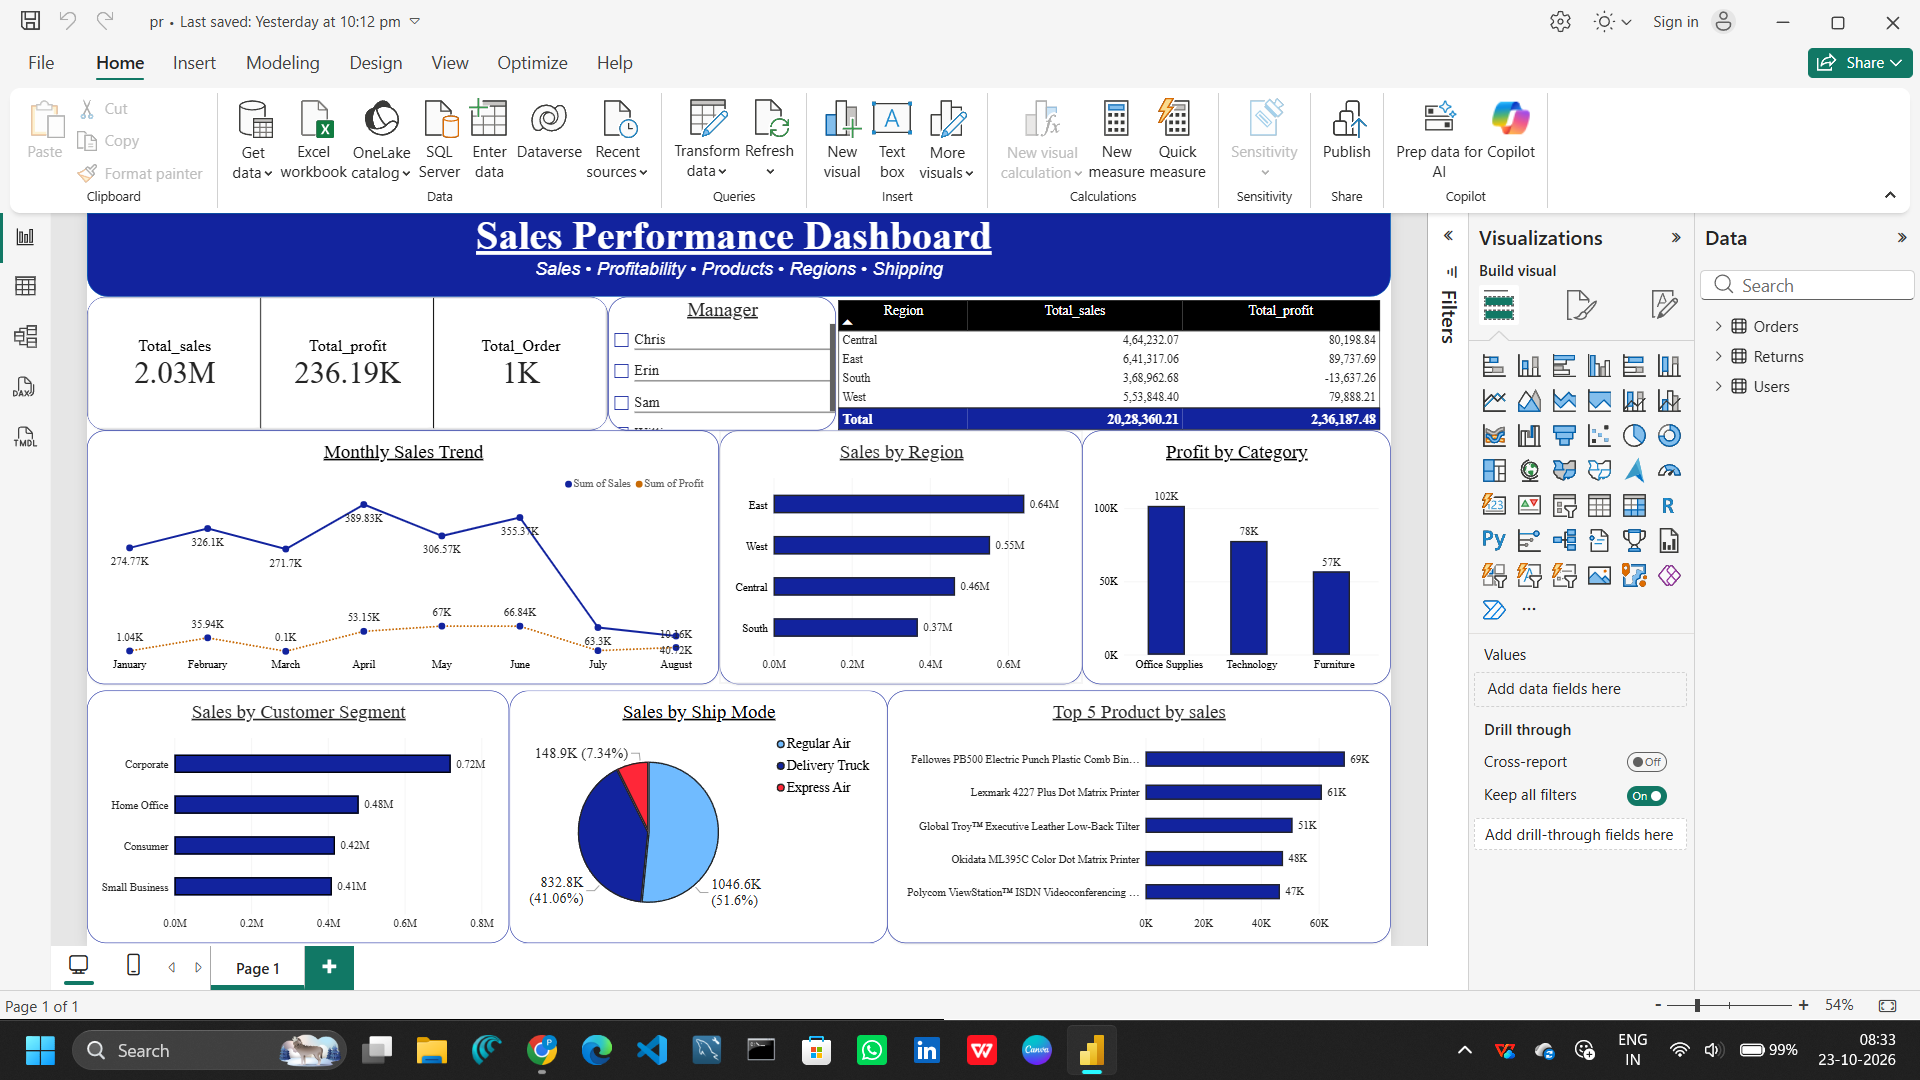

What the dashboard file says about the page in this screenshot:
{"tool":"powerbi","page":{"name":"Page 1","canvas":[1920,1080],"ordinal":0},"visuals":[{"type":"shape","box":[0,0,1919.6,123.3],"z":1},{"type":"textbox","box":[0,0,1919.6,123.3],"z":2},{"type":"cardVisual","fields":{"Data":["Orders.Total_sales","Orders.Total_profit","Orders.Total_Order"]},"box":[0,123.3,767.5,196.9],"z":3},{"type":"columnChart","title":"Sales by Region","fields":{"Category":["Orders.Region"],"Y":["Sum(Orders.Sales)"]},"box":[935,320.2,534.8,373.9],"z":5},{"type":"columnChart","title":"Profit by Product Category","fields":{"Category":["Orders.Product Category"],"Y":["Sum(Orders.Profit)"]},"box":[1465.2,319.6,454.3,373.9],"z":7},{"type":"lineChart","title":"Monthly Sales Trend","fields":{"Category":["Orders.Order Date.Variation.Date Hierarchy.Month"],"Y":["Sum(Orders.Sales)","Sum(Orders.Profit)"]},"box":[0,319.6,930.4,373.9],"z":8},{"type":"donutChart","title":"Sales by Customer Segment","fields":{"Category":["Orders.Customer Segment"],"Y":["Sum(Orders.Sales)"]},"box":[0,702.2,621.7,371.7],"z":10},{"type":"pieChart","title":"Sales by Ship Mode","fields":{"Category":["Orders.Ship Mode"],"Y":["Sum(Orders.Sales)"]},"box":[621.7,702.2,556.5,371.7],"z":11},{"type":"tableEx","fields":{"Values":["Orders.Region","Orders.Total_sales","Orders.Total_profit"]},"box":[1088.9,113.2,831.6,222.3],"z":12},{"type":"barChart","title":"Top 5 Product by sales","fields":{"Category":["Orders.Product Name"],"Y":["Sum(Orders.Sales)"]},"box":[1178.3,702.2,741.3,371.7],"z":13},{"type":"slicer","title":"Manager","fields":{"Values":["Users.Manager"]},"box":[767.5,123.3,335,196.9],"z":14}]}

Visuals, with their boxes on the page's 1920x1080 design canvas (x1, y1, x2, y2). These are canvas units, not pixel positions in the 1920x1080 screenshot, which may show the page scaled, cropped or inside an application window:
shape: region(0, 0, 1920, 123)
textbox: region(0, 0, 1920, 123)
cardVisual - Orders.Total_sales x Orders.Total_profit: region(0, 123, 768, 320)
"Sales by Region" columnChart: region(935, 320, 1470, 694)
"Profit by Product Category" columnChart: region(1465, 320, 1920, 694)
"Monthly Sales Trend" lineChart: region(0, 320, 930, 694)
"Sales by Customer Segment" donutChart: region(0, 702, 622, 1074)
"Sales by Ship Mode" pieChart: region(622, 702, 1178, 1074)
tableEx - Orders.Region x Orders.Total_sales: region(1089, 113, 1920, 336)
"Top 5 Product by sales" barChart: region(1178, 702, 1920, 1074)
"Manager" slicer: region(768, 123, 1102, 320)
